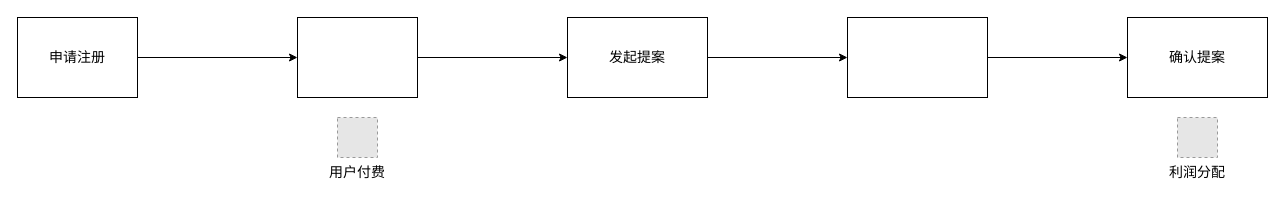
Image size: 1285x205. Some labels were removed from this diagram. Grey dashed boxes stand in for pictures. The box of each missing label's shape, as (x1, y1, x2, y2) in pixels:
等待 ...: (846, 16, 988, 98)
预注册: (296, 16, 418, 98)
